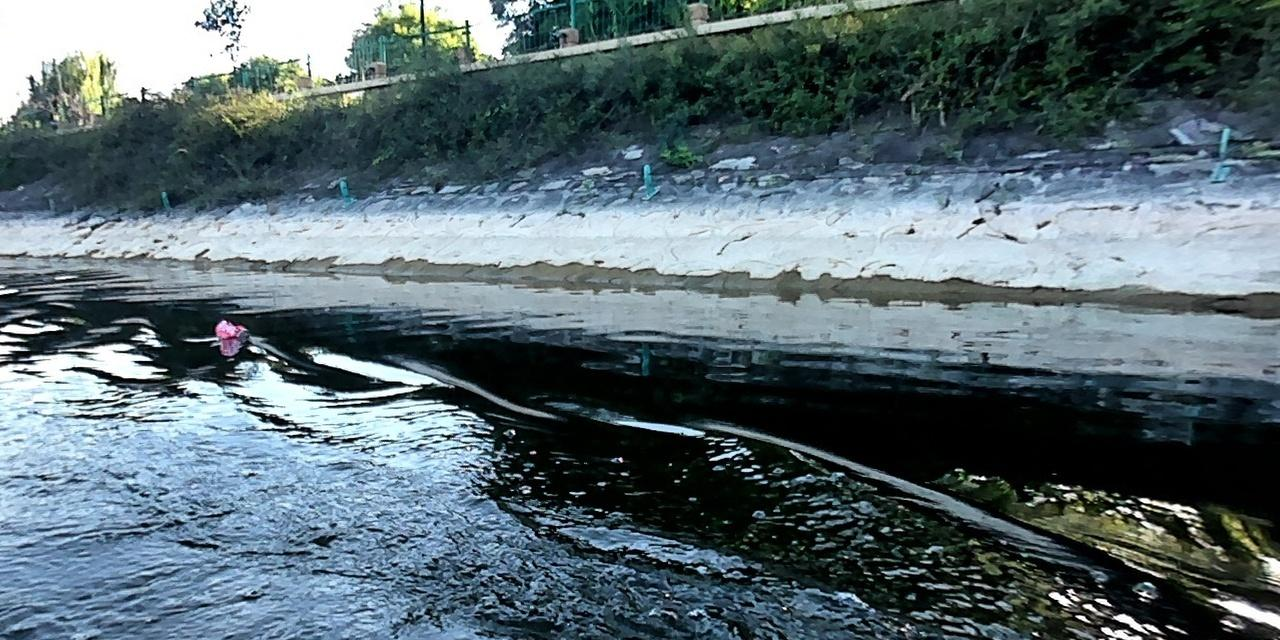bottle: (212, 317, 249, 341)
